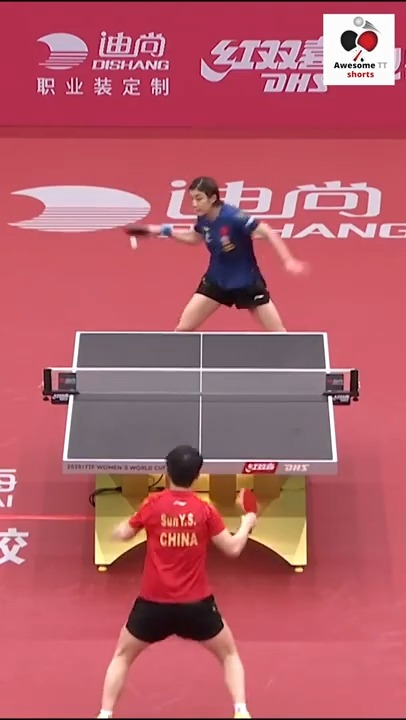Ball: (129, 238, 139, 252)
